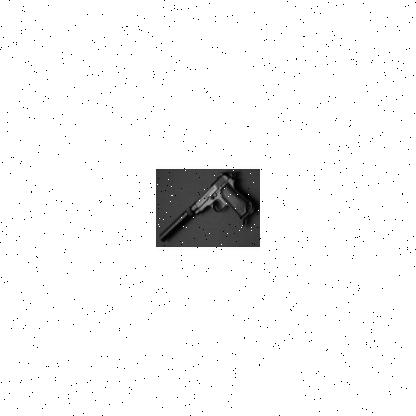gun: (158, 169, 256, 241)
